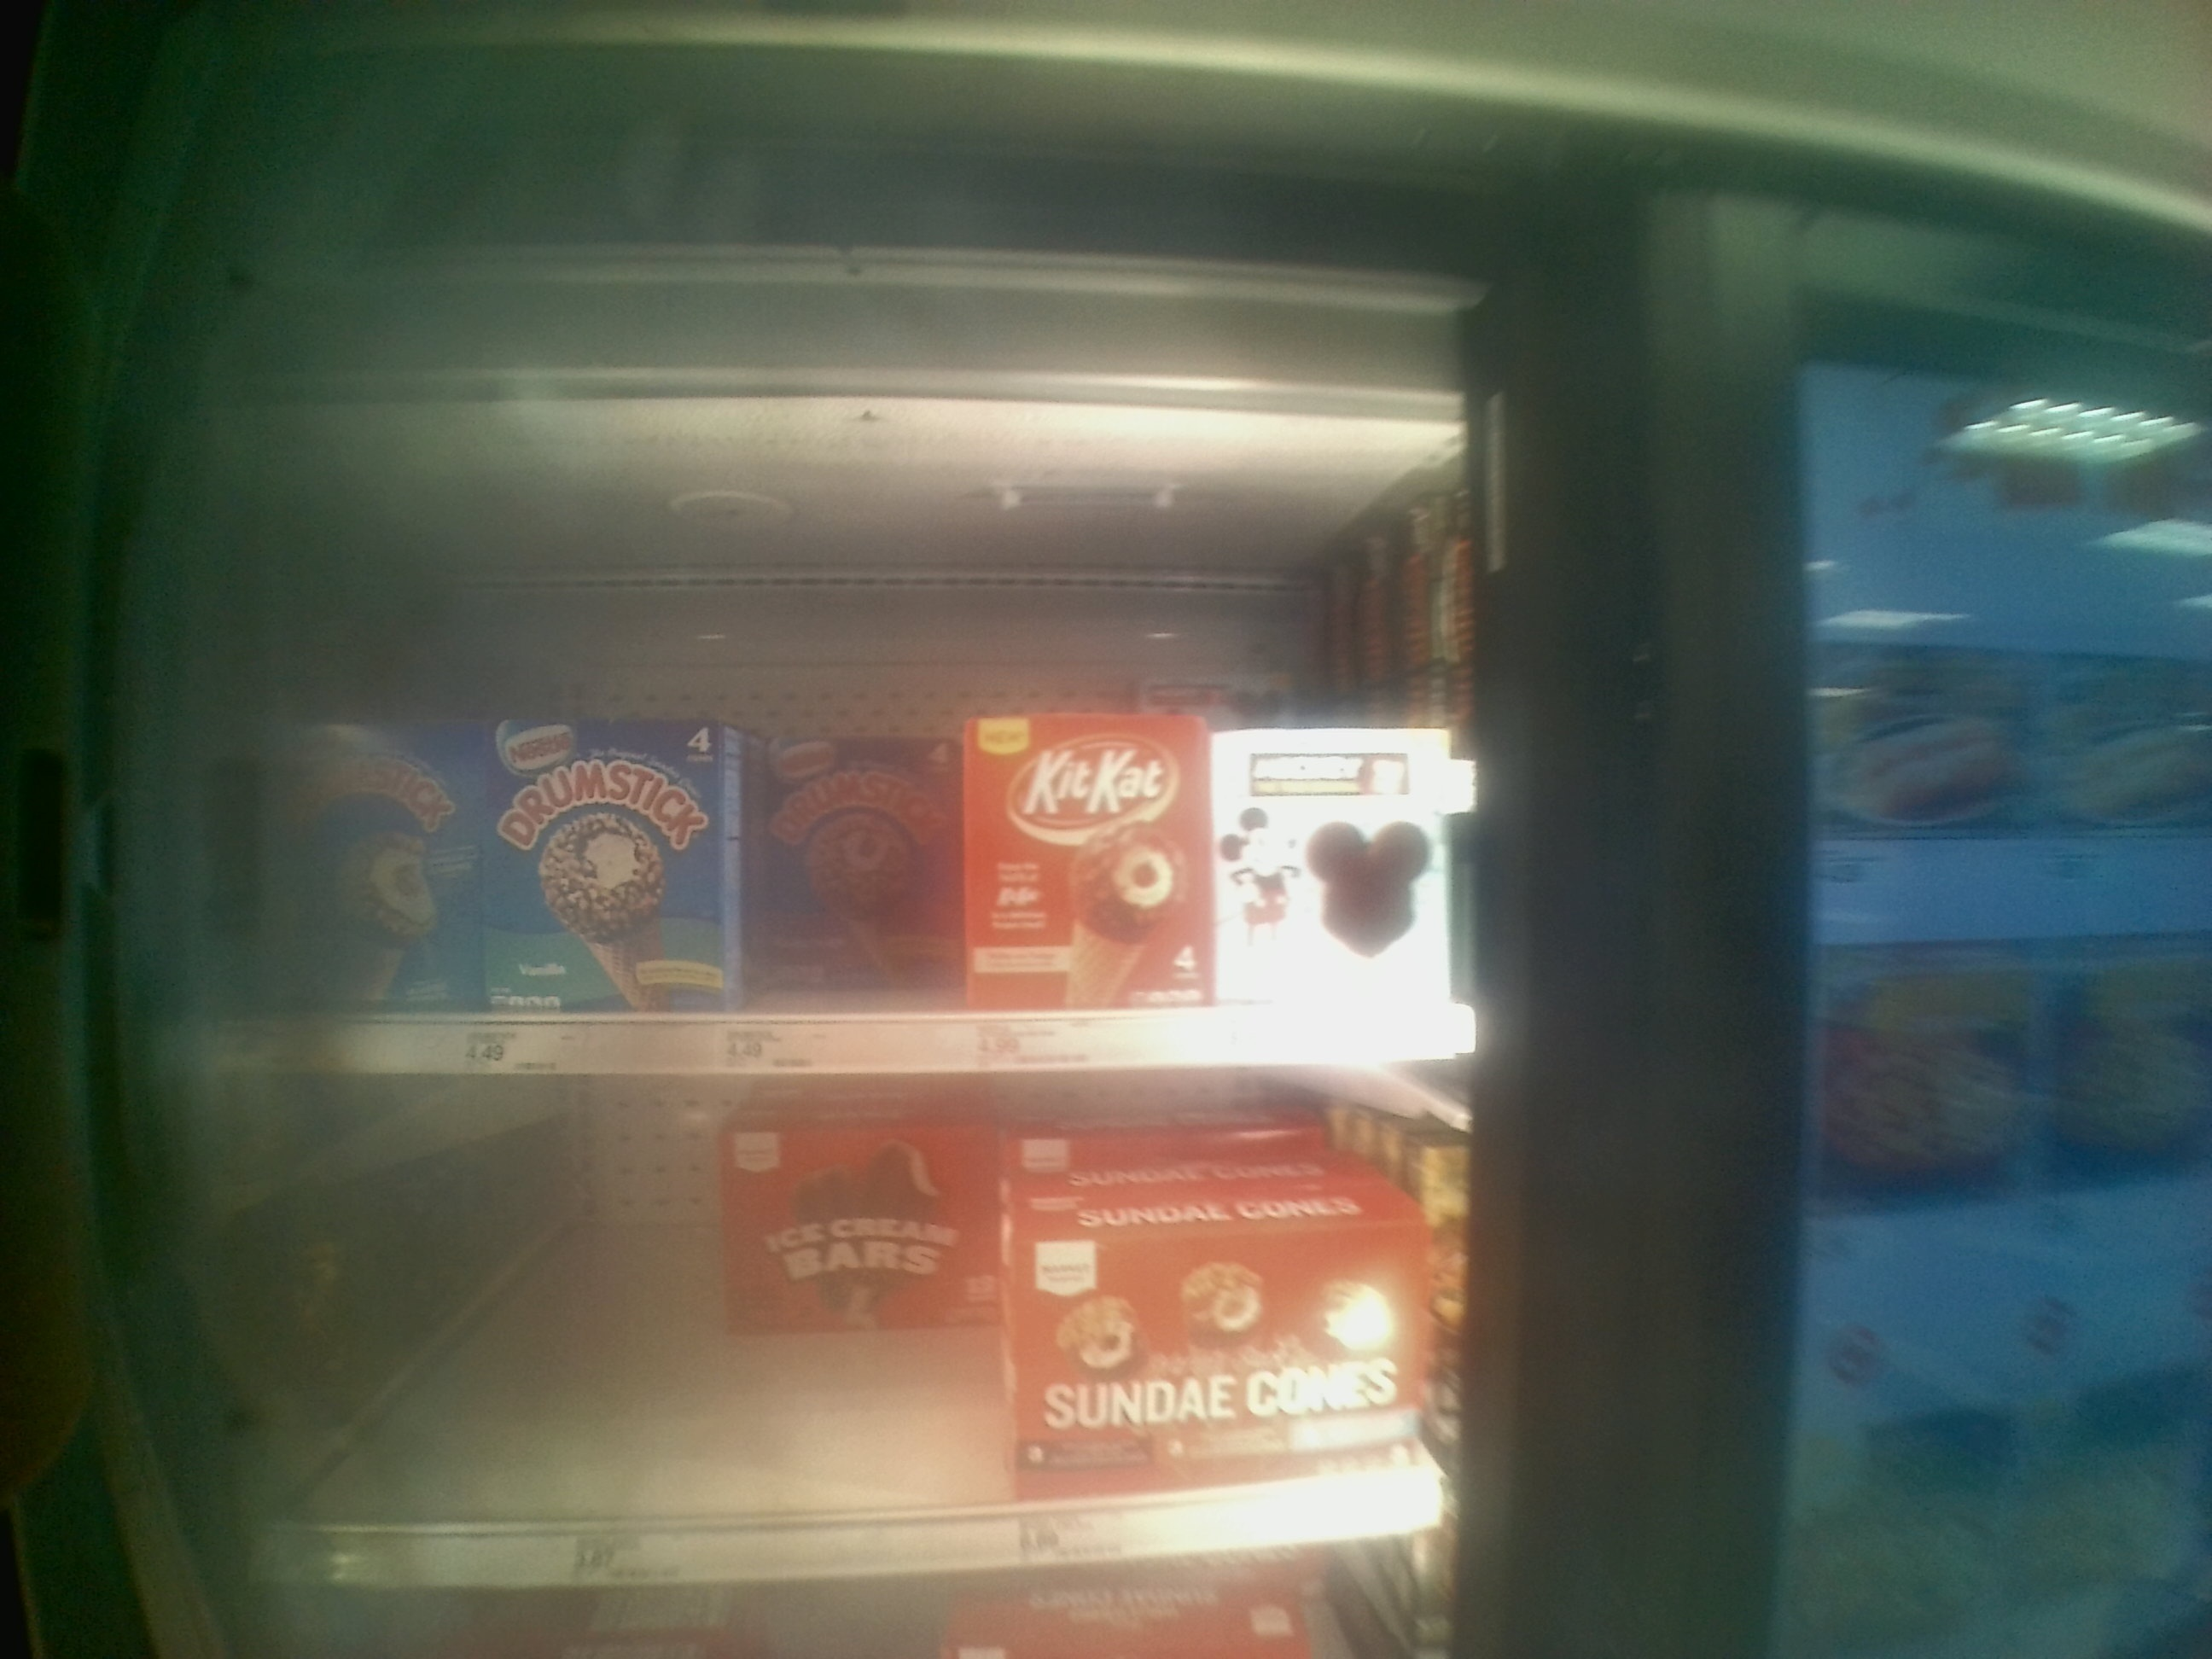ice-cream-shelf: (169, 547, 1468, 1073), (164, 1073, 1456, 1600)
